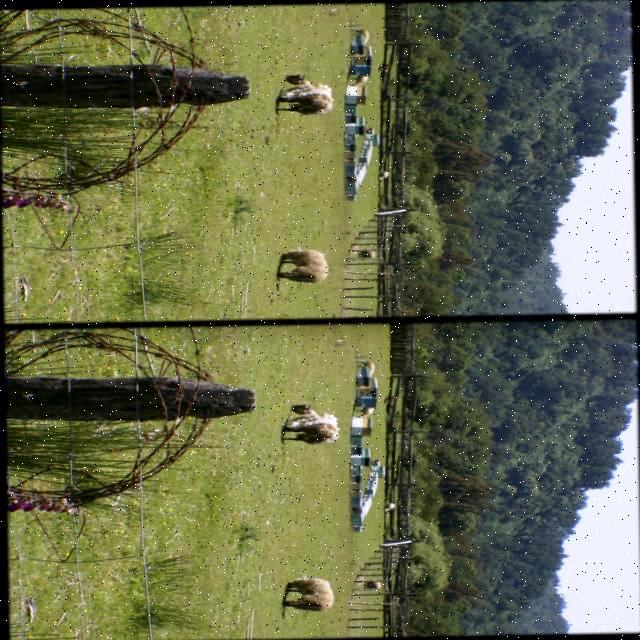sheep: (276, 73, 333, 113), (282, 402, 337, 442), (278, 249, 327, 280), (287, 576, 334, 608)
